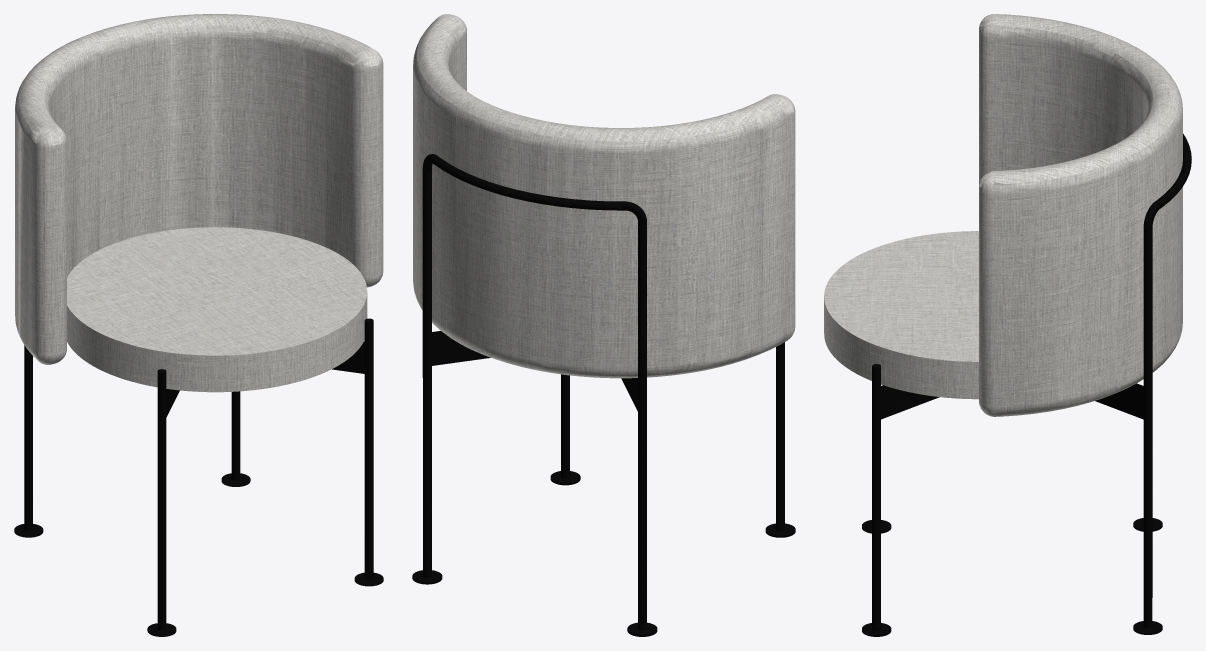
3 renders of one model, left to right at view 1: azimuth 30°, elevation 25°; view 2: azimuth 150°, elevation 25°; view 3: azimuth 270°, elevation 25°, orthographic. The views are drawn at different scales.
Parts seen in each view (by area): view 1: ENCOSTO, Model, Body_1, Body_2, Body_3; view 2: ENCOSTO, Body_3, Body_2, Body_5, Body_1; view 3: ENCOSTO, Model, Body_3, Body_1, Body_4, Body_5.
Boxes of the visible parts, left/top/right/bottom form: ENCOSTO: left=15, top=14, right=383, bottom=364; Model: left=67, top=227, right=367, bottom=392; Body_1: left=364, top=318, right=373, bottom=580; Body_2: left=157, top=369, right=166, bottom=630; Body_3: left=24, top=345, right=240, bottom=531; ENCOSTO: left=413, top=14, right=795, bottom=378; Body_3: left=422, top=154, right=646, bottom=630; Body_2: left=776, top=342, right=784, bottom=531; Body_5: left=432, top=331, right=490, bottom=365; Body_1: left=561, top=374, right=569, bottom=478; ENCOSTO: left=979, top=14, right=1182, bottom=416; Model: left=824, top=231, right=978, bottom=399; Body_3: left=1143, top=133, right=1191, bottom=628; Body_1: left=872, top=364, right=880, bottom=630; Body_4: left=881, top=385, right=939, bottom=419; Body_5: left=1095, top=383, right=1143, bottom=419.
Bounding box in the file's own units: 0.5784 × 0.76 × 0.5221.
3 materials, 3 textured.
